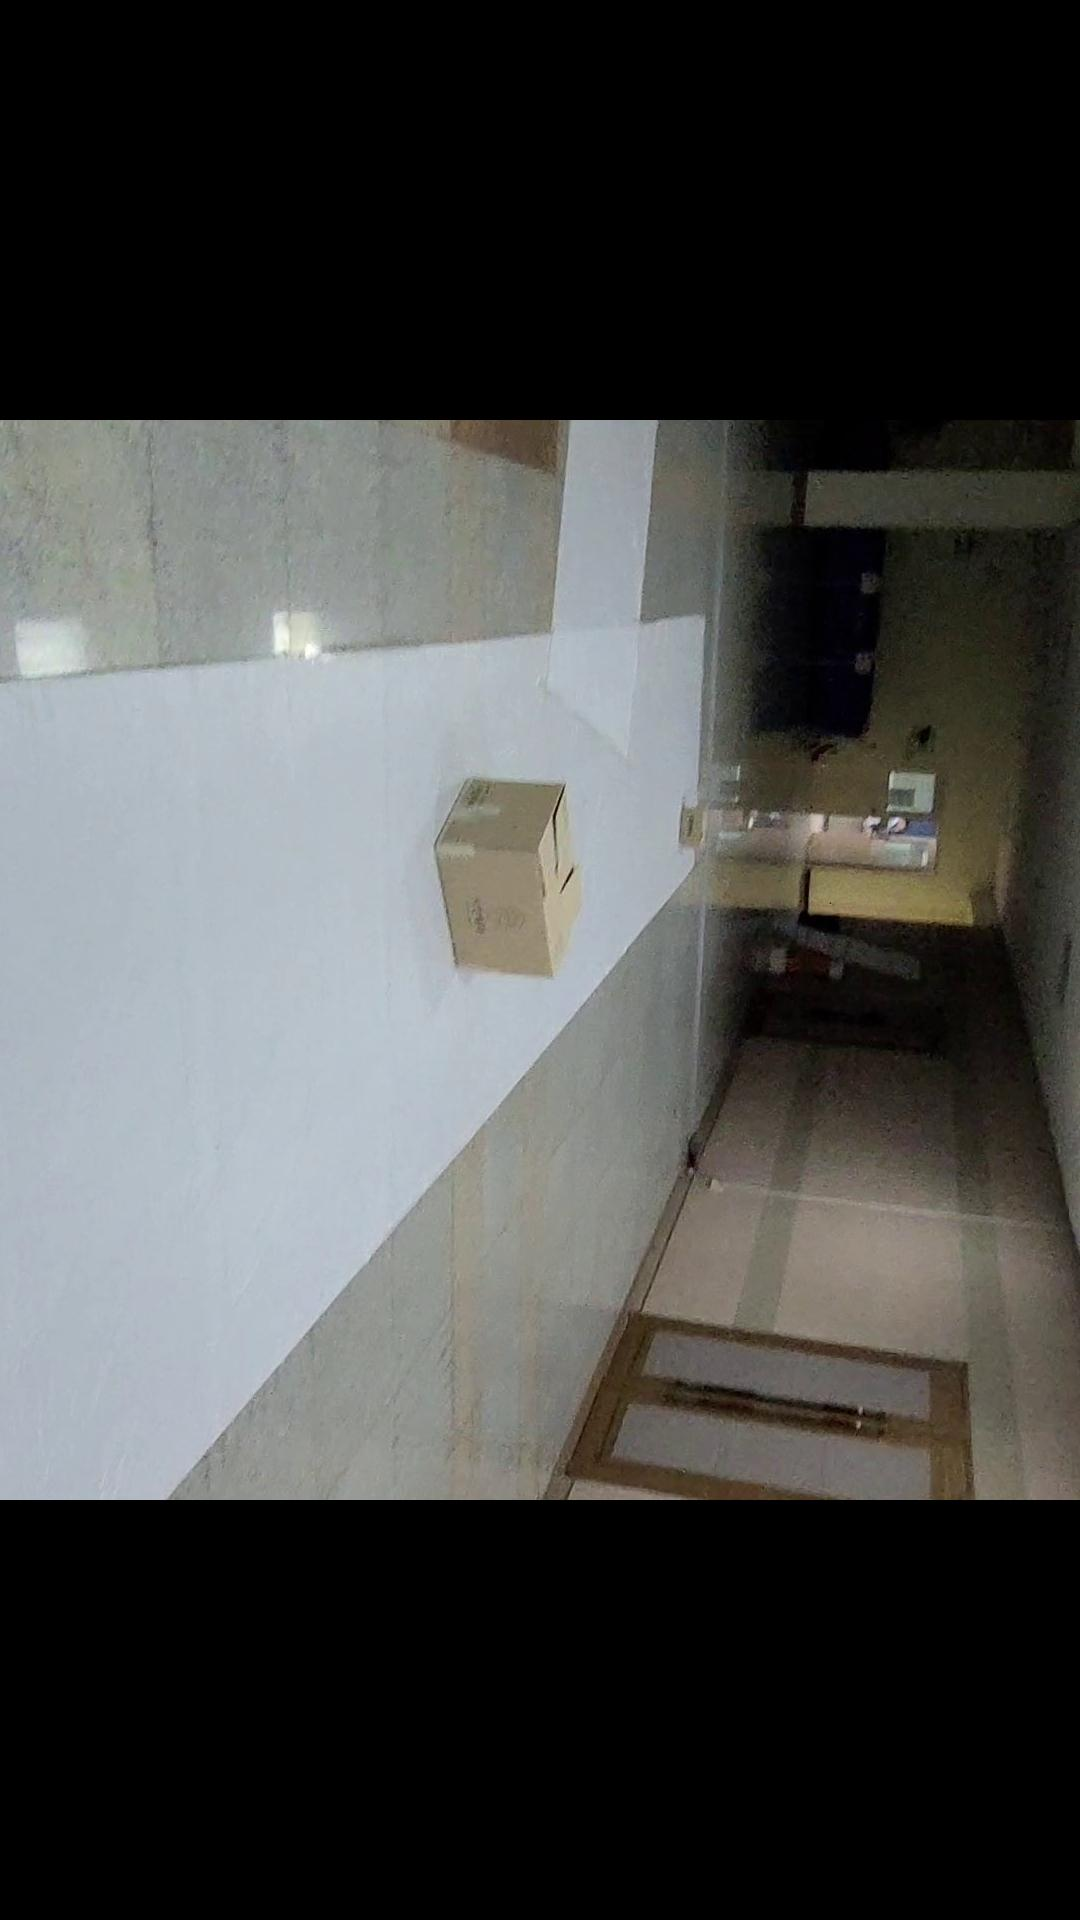Box: (417, 753, 612, 997), (662, 793, 723, 855)
